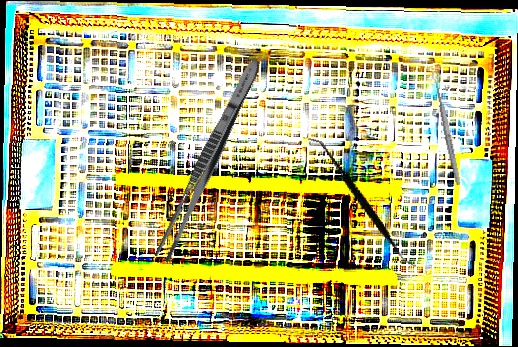Dressing Forceps: (152, 55, 266, 265)
Spatula Surgical: (278, 136, 446, 269)
Surgical Spoon: (431, 70, 462, 186)
